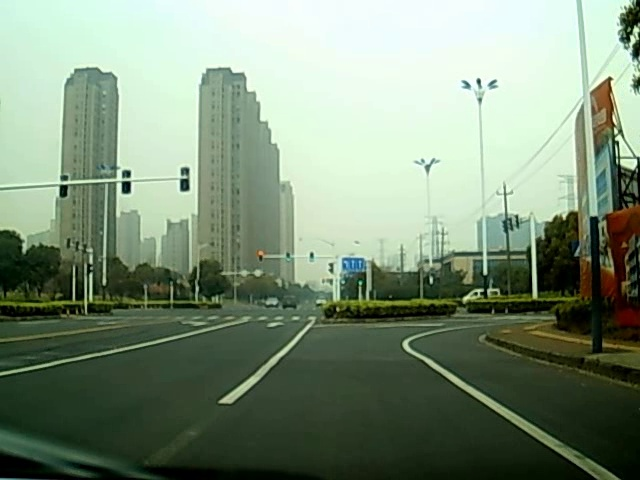Traffic_Light_go: (309, 251, 315, 264), (285, 250, 291, 262)
Traffic_Light_stop: (257, 249, 264, 262)
